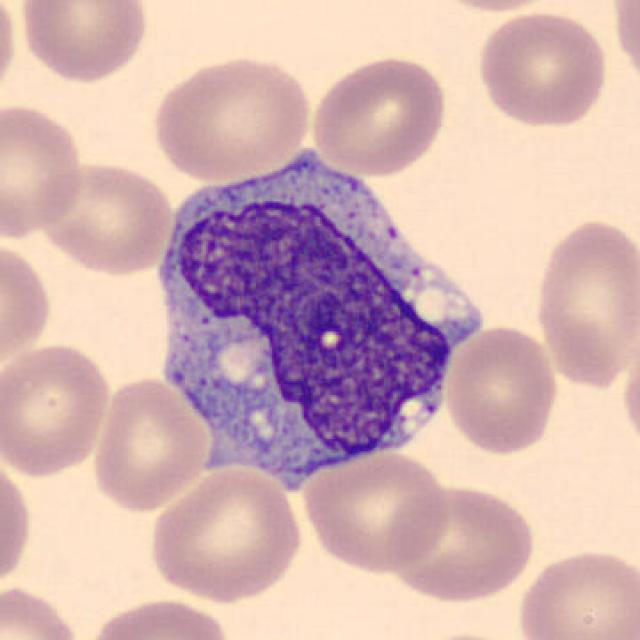Monocyte: (140, 139, 483, 494)
RBC: (146, 464, 306, 604), (149, 51, 315, 183), (299, 446, 453, 575), (384, 480, 539, 604), (530, 213, 638, 390), (308, 53, 450, 178), (87, 374, 212, 515), (473, 7, 611, 131), (36, 157, 176, 277), (442, 321, 562, 457), (0, 338, 114, 479), (0, 99, 87, 238), (512, 545, 638, 640), (14, 0, 151, 85), (0, 234, 57, 374), (82, 594, 236, 640), (0, 451, 34, 596), (0, 582, 85, 640), (608, 0, 640, 93), (618, 329, 640, 460), (0, 0, 21, 106), (418, 0, 572, 14)
